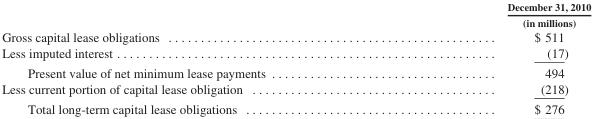table: (1, 0, 590, 116)
table column: (1, 0, 385, 116), (385, 0, 590, 116)
table column header: (1, 0, 590, 28)
table row: (1, 0, 590, 28), (1, 44, 590, 62), (1, 62, 590, 80), (1, 80, 590, 98), (1, 98, 590, 116), (1, 28, 590, 44)
